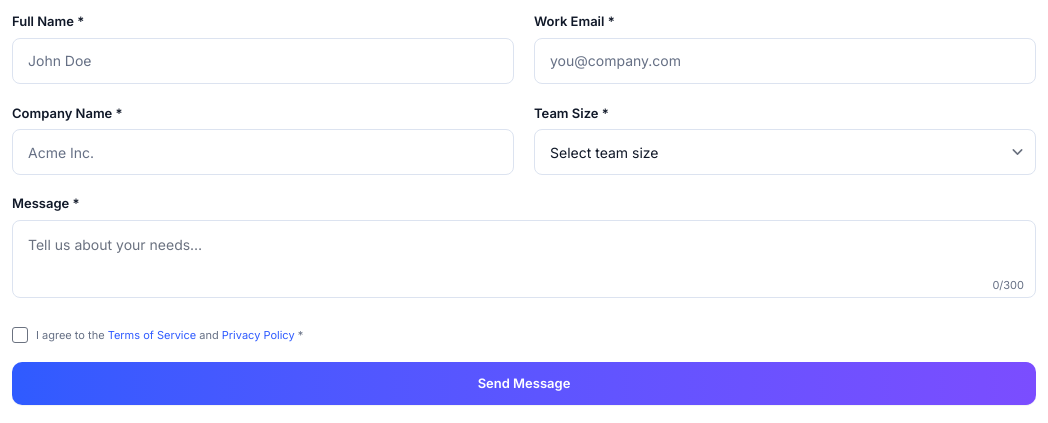
Test: ContactForm › shows a live character count for the message
The width and height of the screenshot is (1048, 423).
Expected: the text "0/300" is shown, [992, 277, 1024, 294]
Type "Hello" into the text box labelled "Message *" at (524, 258), box [12, 220, 1036, 298]
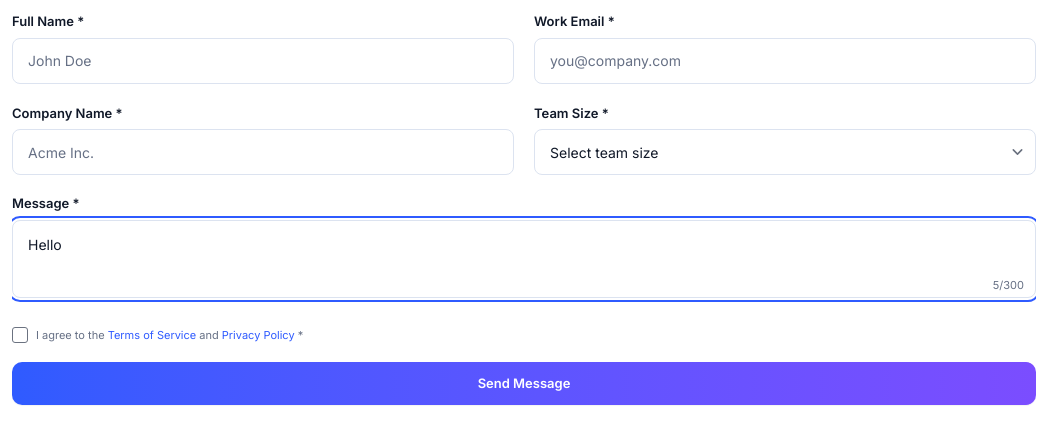
Result: the text "5/300" is shown at [993, 277, 1024, 294]
